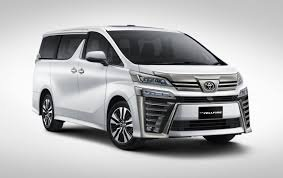mobil: (32, 23, 255, 156)
